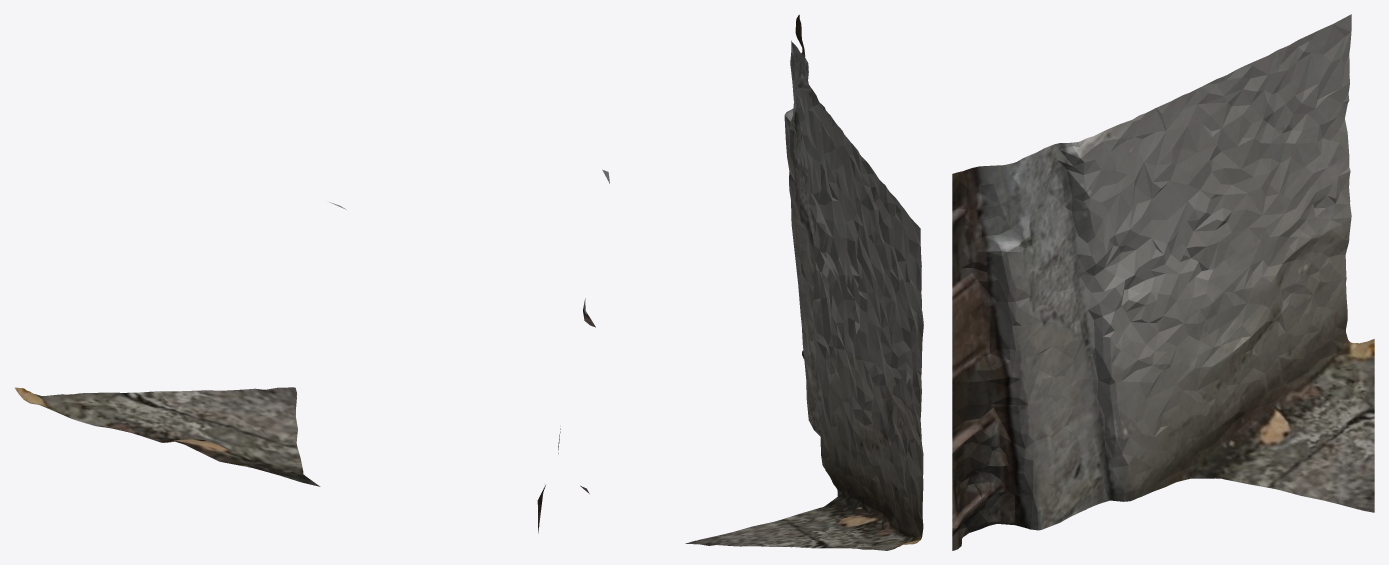
The picture shows the model from 3 angles, left to right: view 1: azimuth 30°, elevation 25°; view 2: azimuth 150°, elevation 25°; view 3: azimuth 270°, elevation 25°; orthographic projection. The views are drawn at different scales.
Size of the model in its own units: 0.7593 by 0.8374 by 0.8374.
3 materials, 3 textured.
